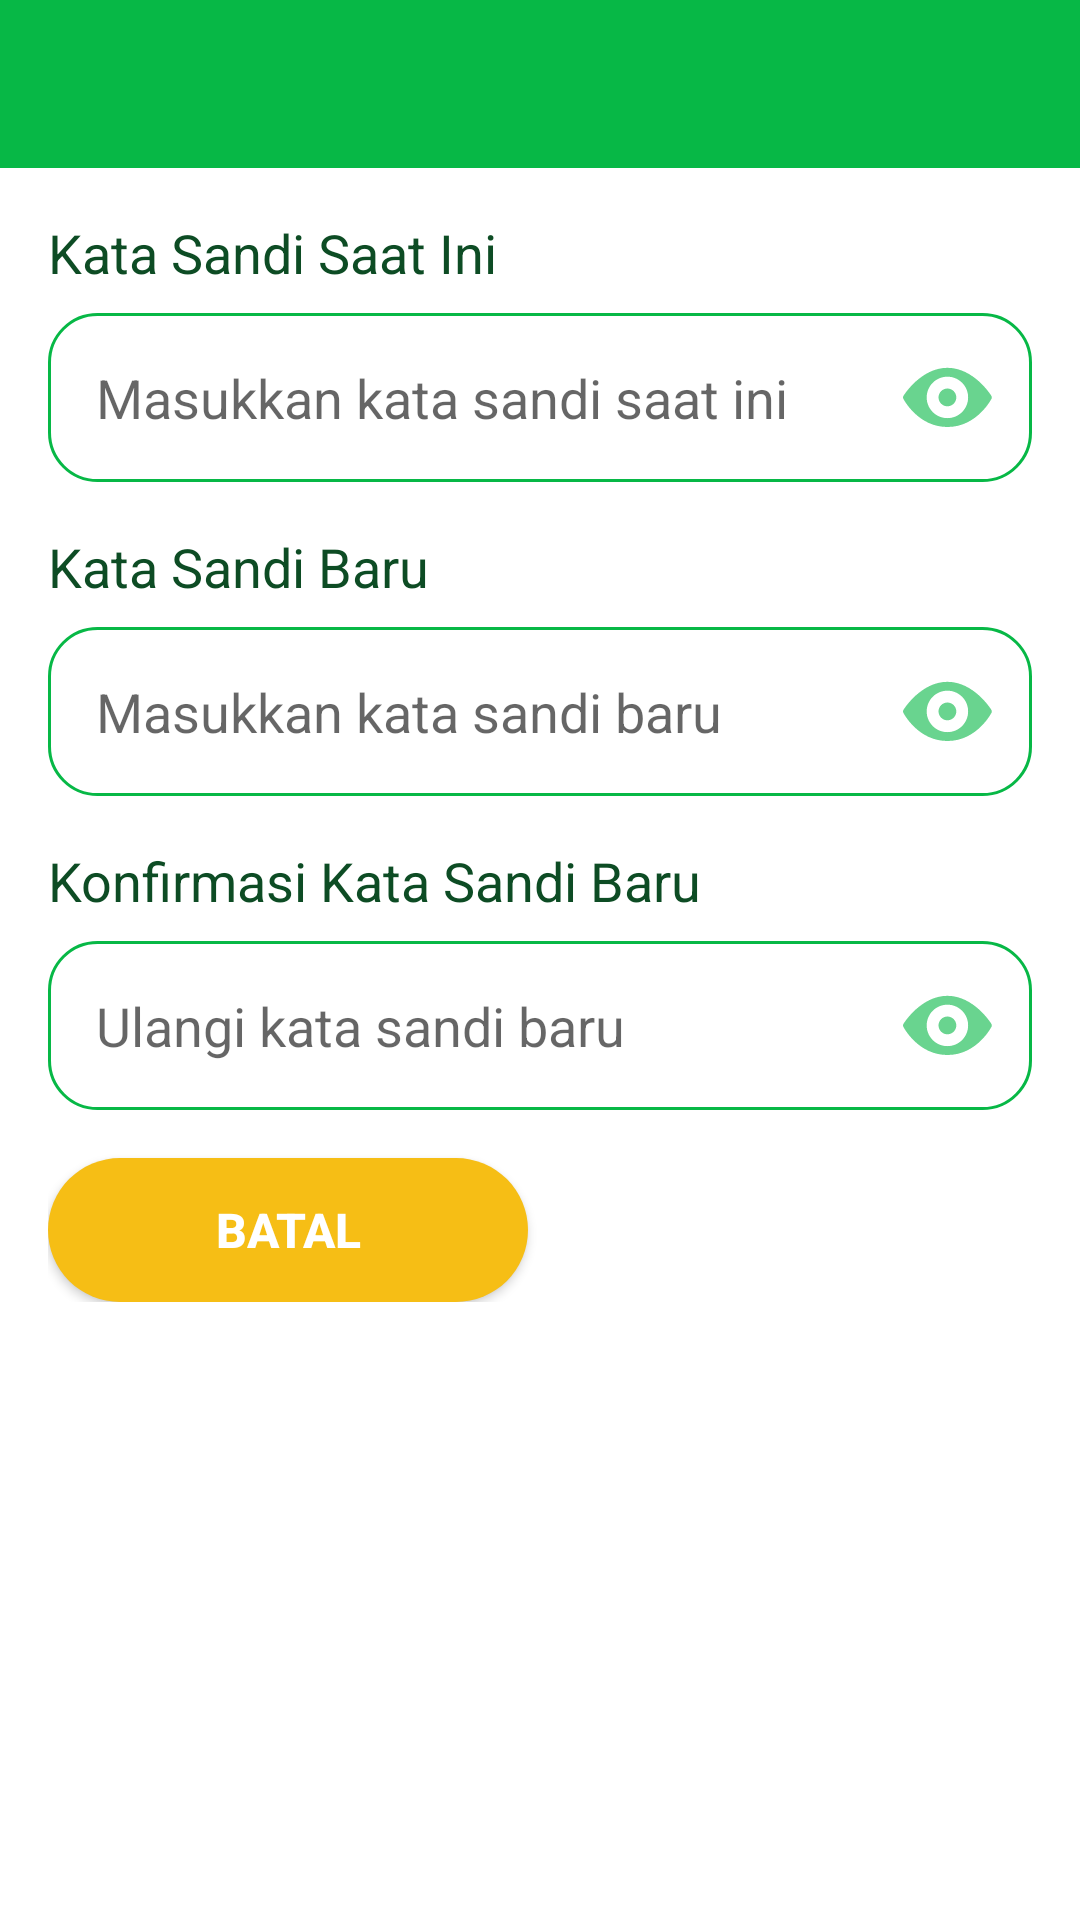

Icon bounding boxes for this 1080px x 1920px phone screenshot, format {"left": x1, "top": y1, "right": x2, "bottom": y2}:
visible: {"left": 903, "top": 367, "right": 992, "bottom": 427}, {"left": 903, "top": 681, "right": 992, "bottom": 741}, {"left": 903, "top": 995, "right": 992, "bottom": 1055}
